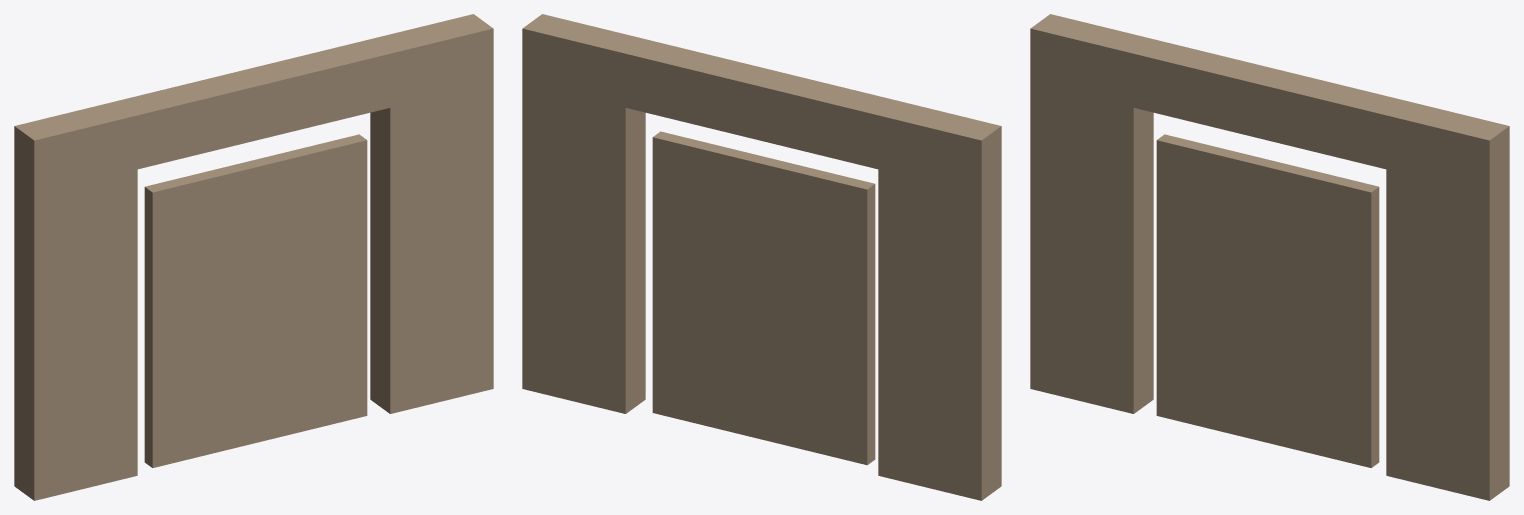
The picture shows the model from 3 angles, left to right: view 1: azimuth 30°, elevation 25°; view 2: azimuth 150°, elevation 25°; view 3: azimuth 330°, elevation 25°; orthographic projection.
Visible parts, largest first — view 1: door_residential_production_run001; view 2: door_residential_production_run001; view 3: door_residential_production_run001.
Boxes of the visible parts, left/top/right/bottom form: door_residential_production_run001: left=14, top=14, right=493, bottom=500; door_residential_production_run001: left=522, top=14, right=1001, bottom=500; door_residential_production_run001: left=1030, top=14, right=1509, bottom=500.
Size of the model in its own units: 4 by 3 by 0.3.
